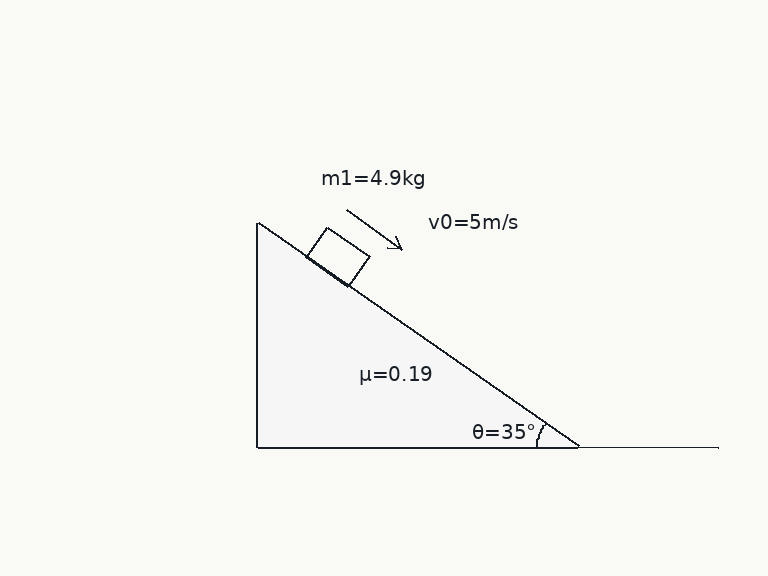block: (304, 224, 371, 288)
ramp: (256, 221, 579, 449)
